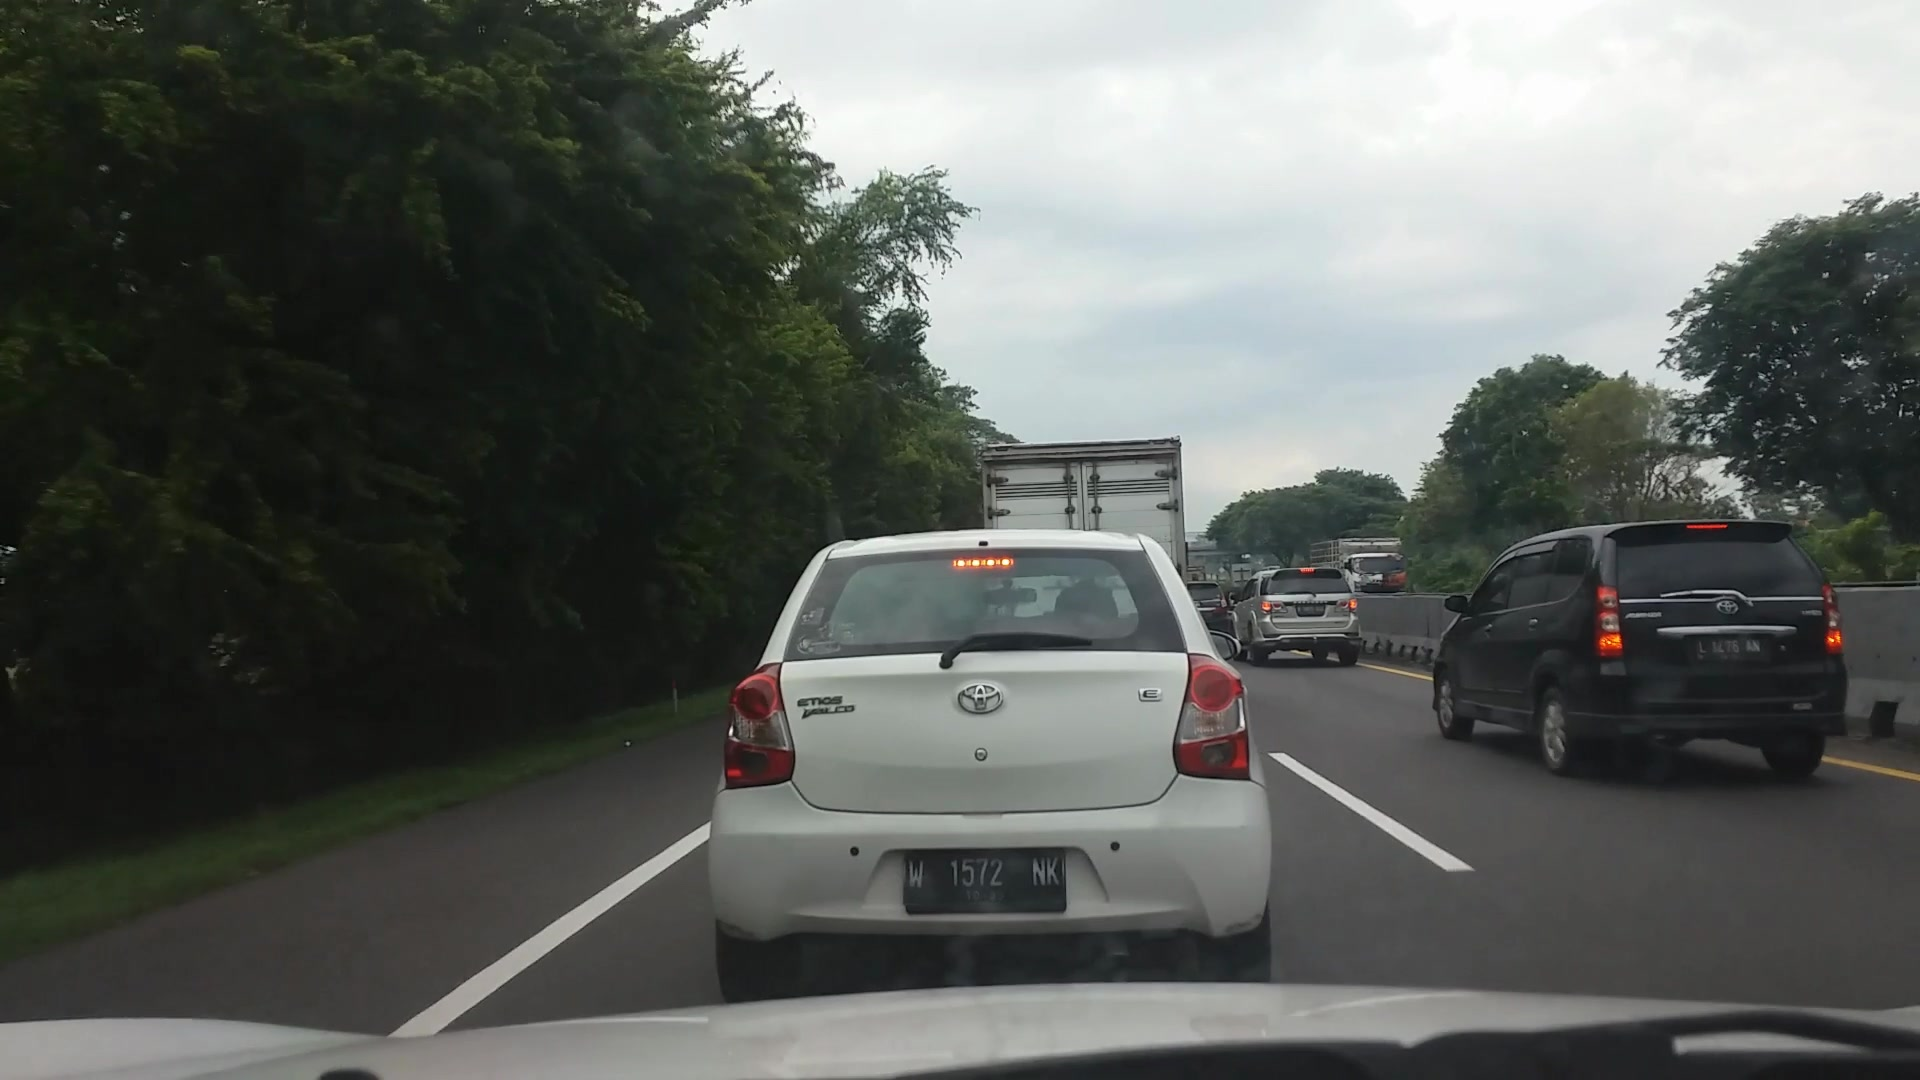plate_positive: (902, 851, 1065, 914)
